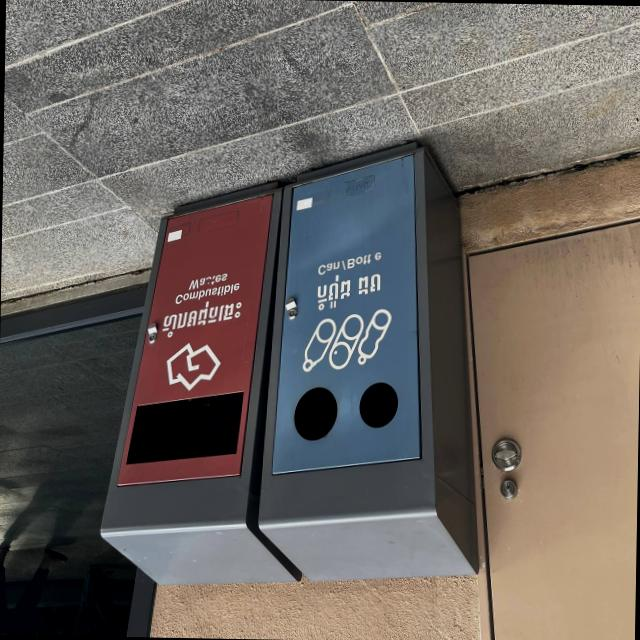1: (312, 261, 385, 315)
Yolov11kh: (161, 292, 241, 340)
